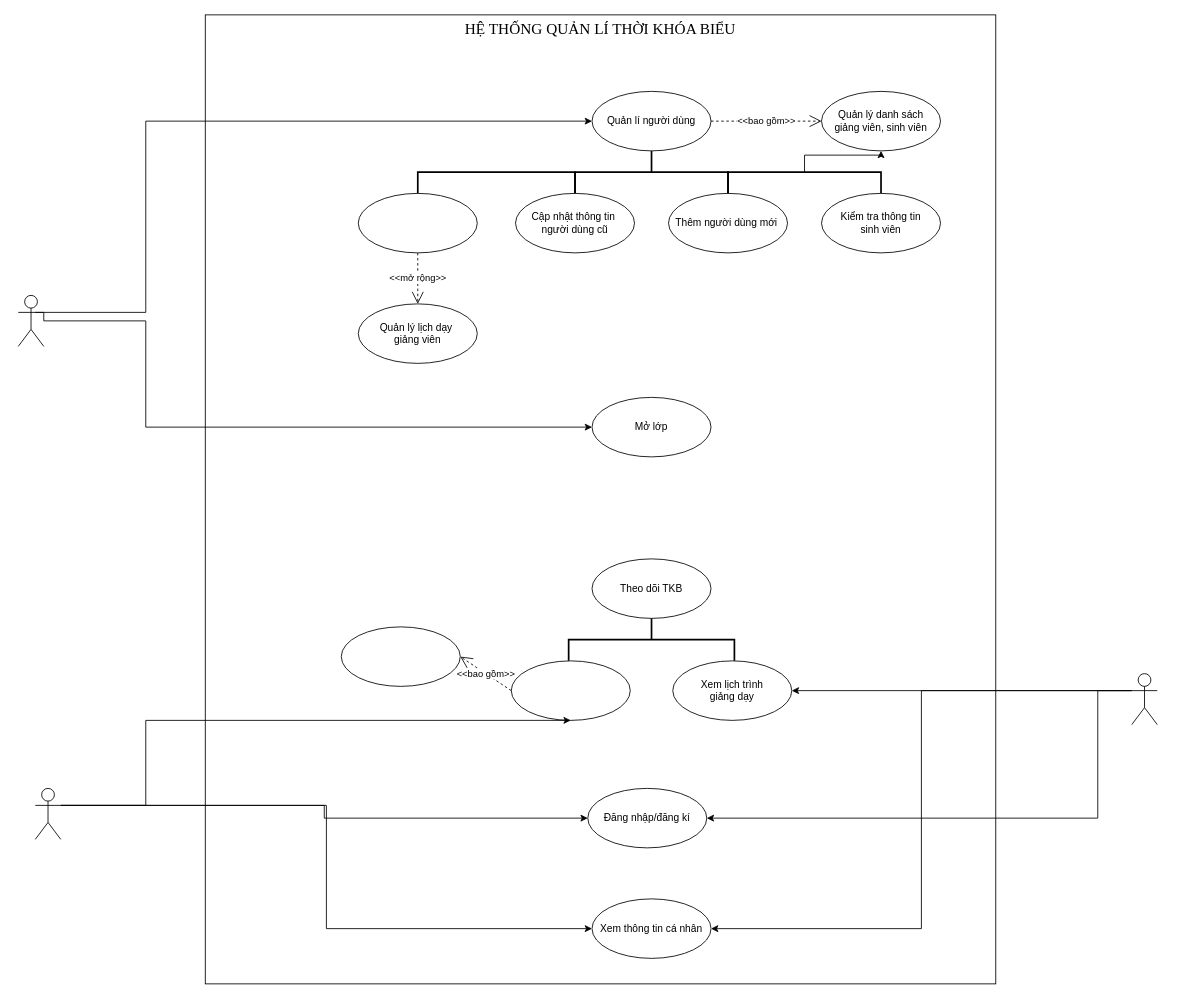
Some shapes in this 1183 by 999 pixel diagram are drawn without their labels. The shapes that lost their labels are listed below. From the top down, each one's centre as x and y in pixels, then its label:
point 417,223: Phân công giáo viên
point 30,320: ADMIN
point 400,656: Xem thời khóa biểu
point 570,690: Đăng kí học
point 1144,699: Giảng viên
point 47,813: Sinh viên
